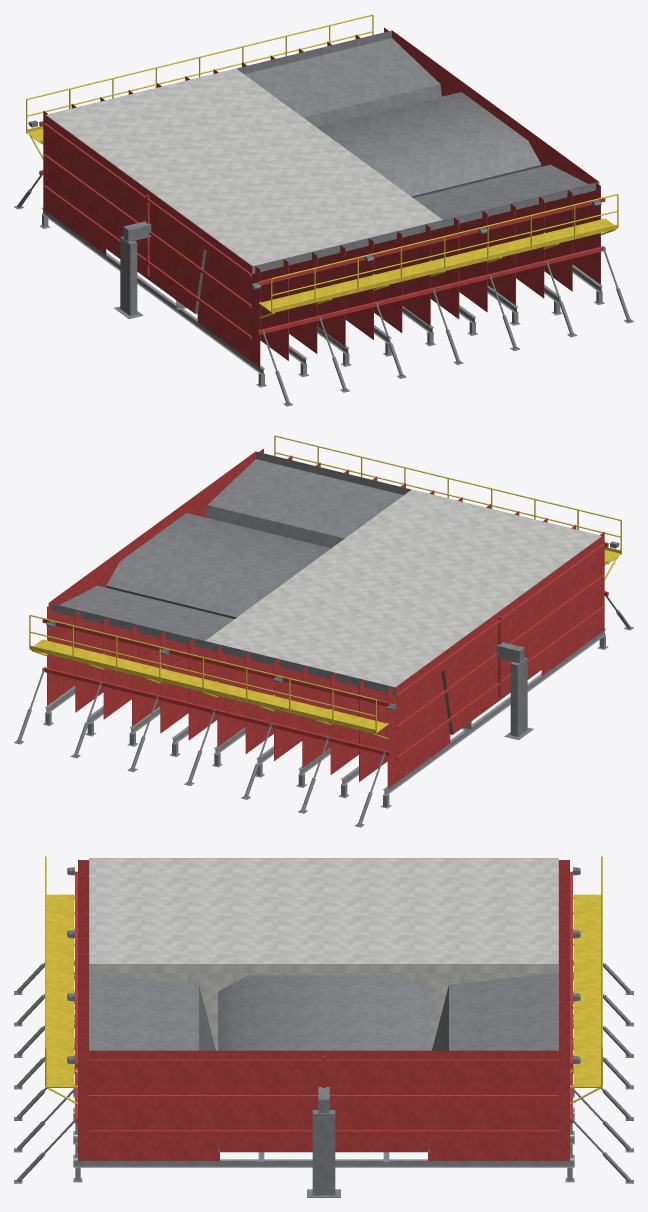
Rendered from fslm-mould.glb.
3 renders of one model, top to bottom at view 1: azimuth 30°, elevation 25°; view 2: azimuth 150°, elevation 25°; view 3: azimuth 270°, elevation 25°, orthographic. The views are drawn at different scales.
Parts seen in each view (by area): view 1: ConcreteUnit(context), Ribs&Walers, SideShutters, InnerCore, EndBulkheads, Walkways, BaseFrame, Props&Clamps; view 2: ConcreteUnit(context), Ribs&Walers, SideShutters, InnerCore, EndBulkheads, Walkways, BaseFrame, Props&Clamps; view 3: ConcreteUnit(context), Ribs&Walers, EndBulkheads, InnerCore, SideShutters, Walkways, BaseFrame, Props&Clamps, Vibrators.
Boxes of the visible parts, x1,y1,x2,y2 form: ConcreteUnit(context): (46, 68, 442, 266); Ribs&Walers: (39, 27, 605, 367); SideShutters: (50, 30, 598, 313); InnerCore: (114, 92, 541, 318); EndBulkheads: (43, 30, 599, 339); Walkways: (26, 14, 618, 318); BaseFrame: (40, 207, 604, 387); Props&Clamps: (14, 170, 633, 406); ConcreteUnit(context): (205, 489, 601, 687); Ribs&Walers: (42, 448, 608, 788); SideShutters: (49, 451, 597, 734); InnerCore: (106, 513, 533, 739); EndBulkheads: (48, 451, 604, 760); Walkways: (29, 435, 621, 739); BaseFrame: (43, 628, 607, 808); Props&Clamps: (14, 591, 633, 827); ConcreteUnit(context): (89, 858, 558, 1050); Ribs&Walers: (75, 860, 572, 1160); EndBulkheads: (89, 858, 558, 1151); InnerCore: (218, 975, 429, 1197); SideShutters: (89, 859, 558, 1151); Walkways: (45, 856, 602, 1104); BaseFrame: (73, 972, 574, 1182); Props&Clamps: (14, 962, 633, 1183); Vibrators: (67, 867, 580, 1063).
Bounding box in the file's own units: 13.9 × 3.93 × 16.38.
6 materials, 6 textured.
